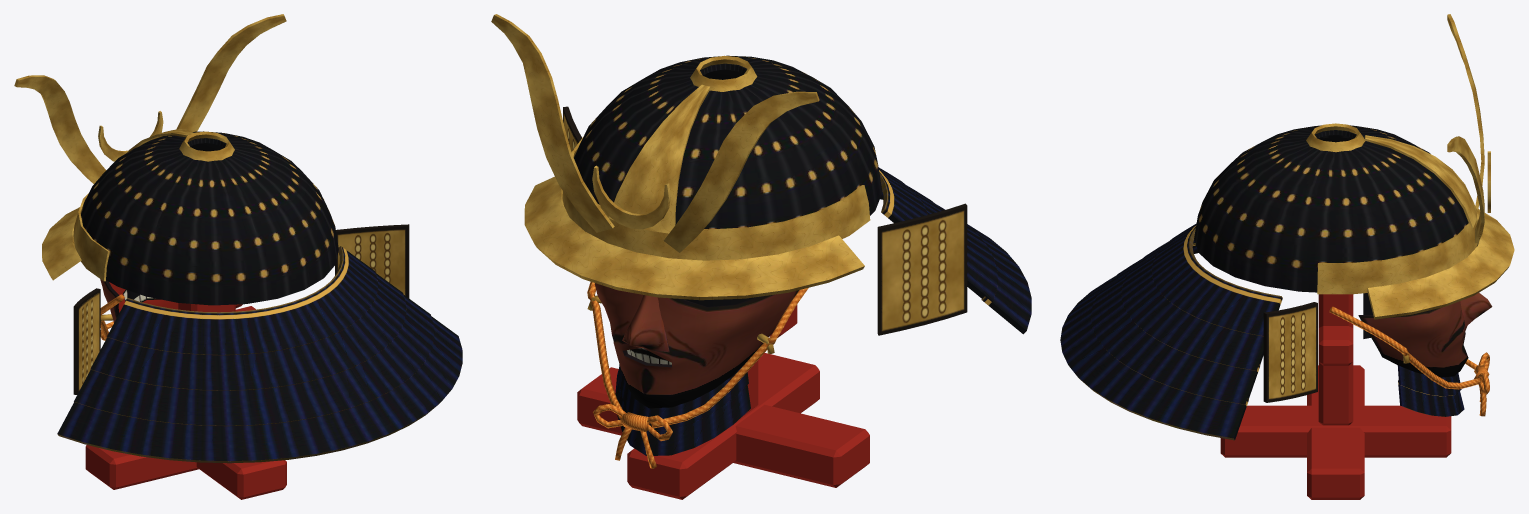
Rendered from kabuto.glb.
The picture shows the model from 3 angles, left to right: view 1: azimuth 30°, elevation 25°; view 2: azimuth 150°, elevation 25°; view 3: azimuth 270°, elevation 25°; orthographic projection. The views are drawn at different scales.
Parts seen in each view (by area): view 1: KabutoBowl, KabutoShikoro3, KabutoShikoro2, KabutoShikoro0, KabutoShikoro1, KabutoWing1, KabutoHorn-1, KabutoHorn1, KabutoStandBoard0, KabutoStandBoard1, KabutoWing-1, KabutoPeak (+4 smaller); view 2: KabutoBowl, KabutoPeak, KabutoMask, KabutoWing-1, KabutoStandBoard0, KabutoBand, KabutoStandBoard1, KabutoHorn1, KabutoPlate, KabutoHorn-1, KabutoYodare1, KabutoShikoro3 (+8 smaller); view 3: KabutoBowl, KabutoStandBoard1, KabutoShikoro3, KabutoShikoro2, KabutoShikoro1, KabutoShikoro0, KabutoPeak, KabutoWing1, KabutoMask, KabutoStandBoard0, KabutoBand, KabutoStandPost (+9 smaller).
Boxes of the visible parts, x1,y1,x2,y2 form: KabutoBowl: (80,131,338,305); KabutoShikoro3: (57,316,462,463); KabutoShikoro2: (74,295,434,426); KabutoShikoro0: (107,246,377,355); KabutoShikoro1: (90,273,406,390); KabutoWing1: (335,224,409,298); KabutoHorn-1: (14,75,106,183); KabutoHorn1: (176,14,286,131); KabutoStandBoard0: (85,445,198,489); KabutoStandBoard1: (196,460,286,499); KabutoWing-1: (73,288,100,394); KabutoPeak: (42,207,81,280); KabutoBowl: (574,55,882,229); KabutoPeak: (524,176,864,300); KabutoMask: (595,283,798,408); KabutoWing-1: (877,203,967,335); KabutoStandBoard0: (577,367,869,487); KabutoBand: (562,136,870,260); KabutoStandBoard1: (627,353,819,499); KabutoHorn1: (491,14,614,232); KabutoPlate: (608,84,710,233); KabutoHorn-1: (663,91,819,252); KabutoYodare1: (615,369,750,455); KabutoShikoro3: (880,191,1031,334); KabutoBowl: (1194,125,1468,292); KabutoStandBoard1: (1220,405,1451,457); KabutoShikoro3: (1060,243,1248,440); KabutoShikoro2: (1091,240,1259,404); KabutoShikoro1: (1121,241,1263,370); KabutoShikoro0: (1151,223,1282,336); KabutoPeak: (1367,209,1514,319); KabutoWing1: (1263,302,1317,402); KabutoMask: (1358,301,1468,377); KabutoStandBoard0: (1307,365,1364,499); KabutoBand: (1317,219,1477,294); KabutoStandPost: (1318,294,1353,425).
Bounding box in the file's own units: 0.4037 × 0.3529 × 0.3938.
8 materials, 6 textured.
